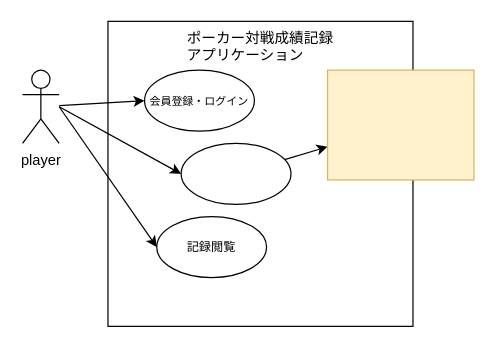
The diagram is 495 pixels wide and 348 high, and some of its shapes have lost their labels. The shapes that lost their labels are listed below. From the top down, each one's centre as x and y in pixels, then its label:
At pixel 400 124: "・ 日付 ・プレイ時間 ・損益 ・プレイレート ・コメント".
At pixel 235 173: "記録".
